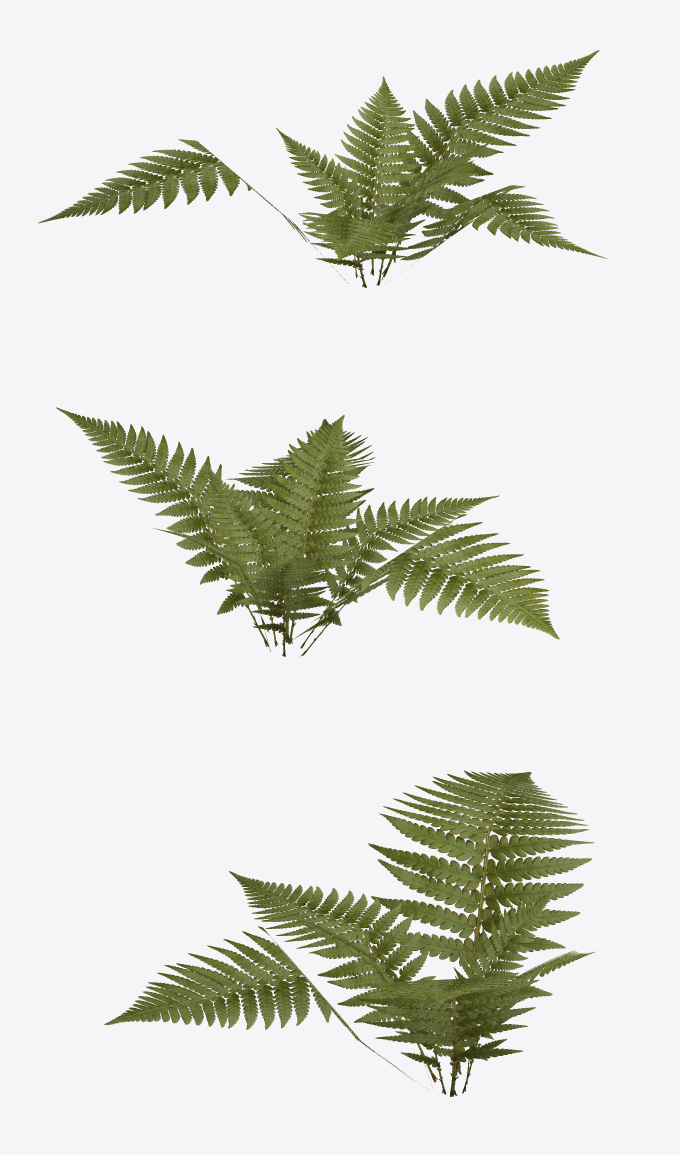
The model's file is fern_medium_b_lod2.gltf.
3 views of the same model, one above another, from view 1: azimuth 30°, elevation 25°; view 2: azimuth 150°, elevation 25°; view 3: azimuth 270°, elevation 25° (orthographic). The views are drawn at different scales.
Visible parts, largest first — view 1: fern_medium_b_LOD2; view 2: fern_medium_b_LOD2; view 3: fern_medium_b_LOD2.
Boxes of the visible parts, left/top/right/bottom form: fern_medium_b_LOD2: left=38, top=50, right=607, bottom=287; fern_medium_b_LOD2: left=56, top=407, right=559, bottom=656; fern_medium_b_LOD2: left=104, top=770, right=595, bottom=1096.
Size of the model in its own units: 1.75 by 0.5469 by 1.38.
1 material, 1 textured.
